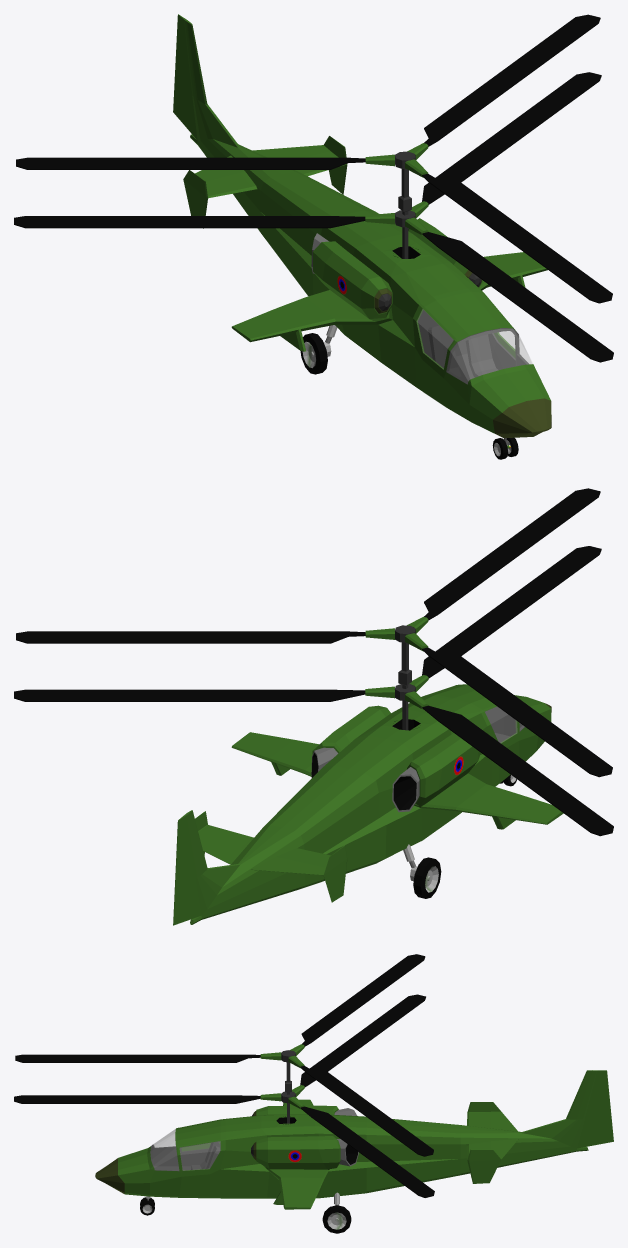
The picture shows the model from 3 angles, top to bottom: view 1: azimuth 30°, elevation 25°; view 2: azimuth 150°, elevation 25°; view 3: azimuth 270°, elevation 25°; orthographic projection. The views are drawn at different scales.
Parts seen in each view (by area): view 1: Circle.022, Circle.027, Circle.028, Circle.025, Circle.026, Circle.023, Landing gear_RL.005, Circle.032; view 2: Circle.022, Circle.027, Circle.028, Circle.023, Landing gear_RL.005, Circle.026, Circle.024; view 3: Circle.022, Circle.027, Circle.028, Circle.023, Circle.031, Circle.025, Landing gear_RL.004.
Part boxes in pixels (<box>): Circle.022: <box>183,19,551,438</box>; Circle.027: <box>14,72,613,362</box>; Circle.028: <box>16,14,612,303</box>; Circle.025: <box>446,328,532,383</box>; Circle.026: <box>413,304,456,377</box>; Circle.023: <box>173,14,197,140</box>; Landing gear_RL.005: <box>300,325,337,374</box>; Circle.032: <box>258,145,327,157</box>; Circle.022: <box>184,684,563,924</box>; Circle.027: <box>14,546,613,836</box>; Circle.028: <box>16,488,612,777</box>; Circle.023: <box>173,815,201,925</box>; Landing gear_RL.005: <box>403,844,441,898</box>; Circle.026: <box>480,705,518,747</box>; Circle.024: <box>258,858,325,874</box>; Circle.022: <box>95,1070,597,1209</box>; Circle.027: <box>14,994,434,1197</box>; Circle.028: <box>15,954,433,1156</box>; Circle.023: <box>577,1070,613,1148</box>; Circle.031: <box>177,1139,225,1176</box>; Circle.025: <box>150,1129,178,1170</box>; Landing gear_RL.004: <box>322,1192,351,1233</box>.
Bounding box in the file's own units: 1451 × 533 × 1812.
